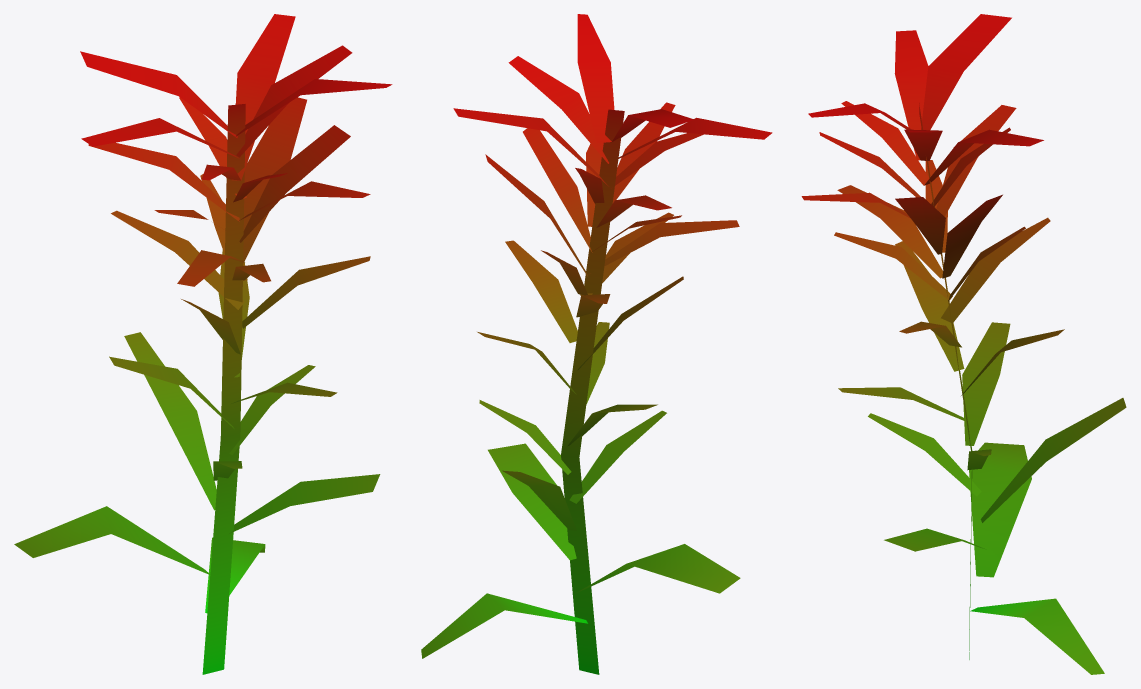
Rendered from Goldenrods_LOD6_Var8.fbx.
The picture shows the model from 3 angles, left to right: view 1: azimuth 30°, elevation 25°; view 2: azimuth 150°, elevation 25°; view 3: azimuth 270°, elevation 25°; orthographic projection. The views are drawn at different scales.
Parts seen in each view (by area): view 1: _nzuy_Var8_LOD6; view 2: _nzuy_Var8_LOD6; view 3: _nzuy_Var8_LOD6.
Boxes of the visible parts, left/top/right/bottom form: _nzuy_Var8_LOD6: left=14, top=14, right=392, bottom=674; _nzuy_Var8_LOD6: left=421, top=14, right=772, bottom=674; _nzuy_Var8_LOD6: left=801, top=14, right=1126, bottom=674.
Bounding box in the file's own units: 32.29 × 62.77 × 31.13.
